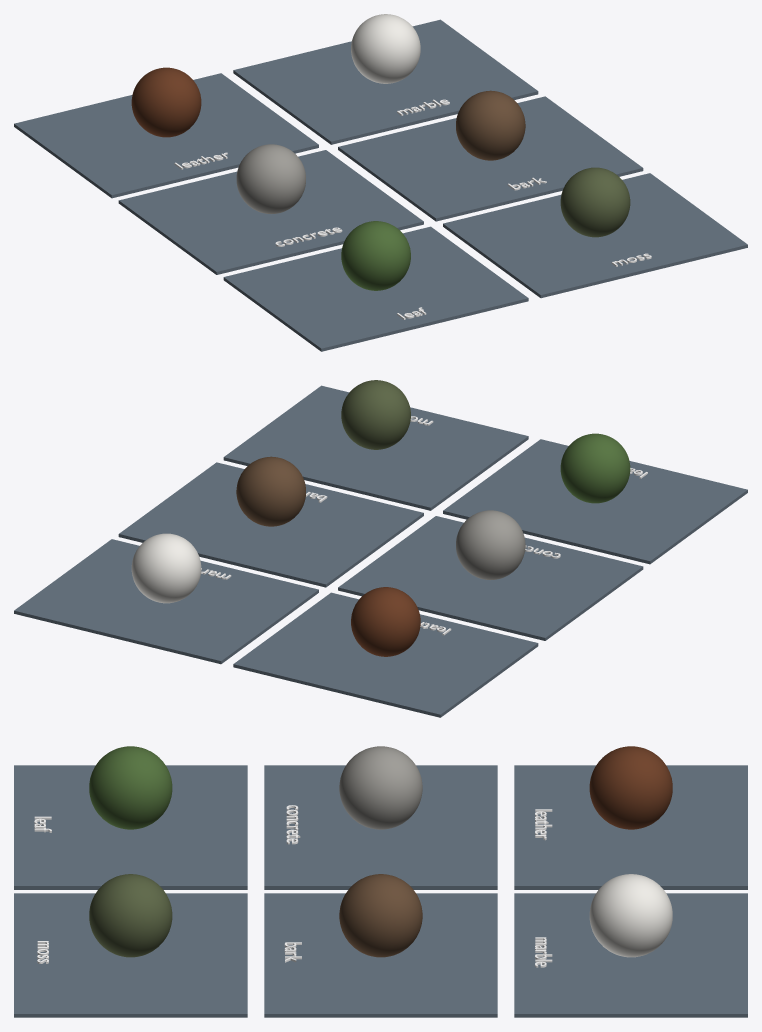
File: mat_presets_natural.glb
3 renders of one model, top to bottom at view 1: azimuth 30°, elevation 25°; view 2: azimuth 150°, elevation 25°; view 3: azimuth 270°, elevation 25°, orthographic. The views are drawn at different scales.
Visible parts, largest first — view 1: tile, moss, leather, marble, bark, concrete, leaf, label; view 2: tile, marble, leaf, moss, bark, concrete, leather, label; view 3: tile, concrete, moss, marble, bark, leaf, leather, label.
Part boxes in pixels (x1=…): tile: x1=14, y1=19, x2=747, y2=351; moss: x1=560, y1=167, x2=630, y2=237; leather: x1=131, y1=67, x2=201, y2=137; marble: x1=351, y1=14, x2=420, y2=83; bark: x1=456, y1=90, x2=525, y2=160; concrete: x1=236, y1=144, x2=305, y2=214; leaf: x1=341, y1=221, x2=410, y2=290; label: x1=174, y1=99, x2=651, y2=319; tile: x1=14, y1=385, x2=747, y2=717; marble: x1=131, y1=533, x2=201, y2=603; leaf: x1=560, y1=433, x2=630, y2=503; moss: x1=341, y1=380, x2=410, y2=449; bark: x1=236, y1=456, x2=305, y2=526; concrete: x1=456, y1=510, x2=525, y2=580; leather: x1=351, y1=587, x2=420, y2=656; label: x1=201, y1=416, x2=647, y2=635; tile: x1=14, y1=765, x2=747, y2=1017; concrete: x1=339, y1=746, x2=422, y2=829; moss: x1=89, y1=874, x2=172, y2=957; marble: x1=589, y1=874, x2=672, y2=957; bark: x1=339, y1=874, x2=422, y2=957; leaf: x1=89, y1=746, x2=172, y2=829; leather: x1=589, y1=746, x2=672, y2=829; label: x1=34, y1=805, x2=552, y2=967.
Size of the model in its own units: 0.282 by 0.042 by 0.352.
